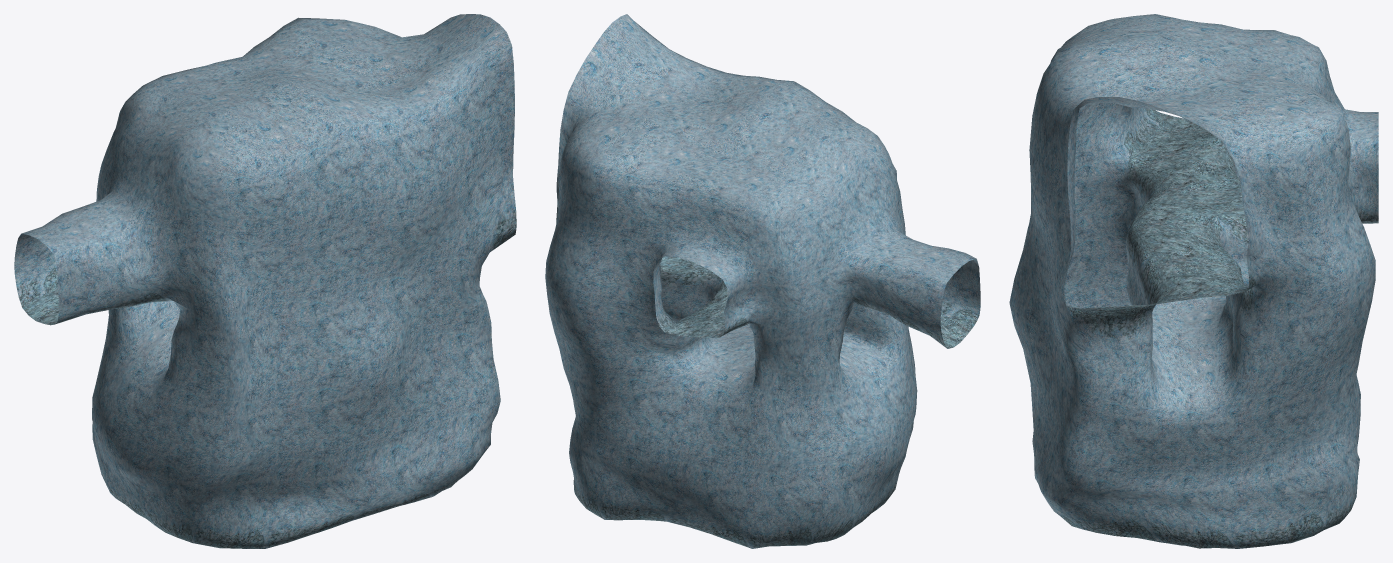
The model's file is thm_all_cave_flatland_s01_ice_r6_mesh_r6.fbx.
3 views of the same model, side by side, from view 1: azimuth 30°, elevation 25°; view 2: azimuth 150°, elevation 25°; view 3: azimuth 270°, elevation 25° (orthographic). The views are drawn at different scales.
Parts seen in each view (by area): view 1: mesh_node; view 2: mesh_node; view 3: mesh_node.
Part boxes in pixels (x1=…): mesh_node: x1=14, y1=14, x2=516, y2=548; mesh_node: x1=545, y1=14, x2=980, y2=548; mesh_node: x1=1009, y1=14, x2=1378, y2=548.
Size of the model in its own units: 55 by 58.14 by 39.83.
